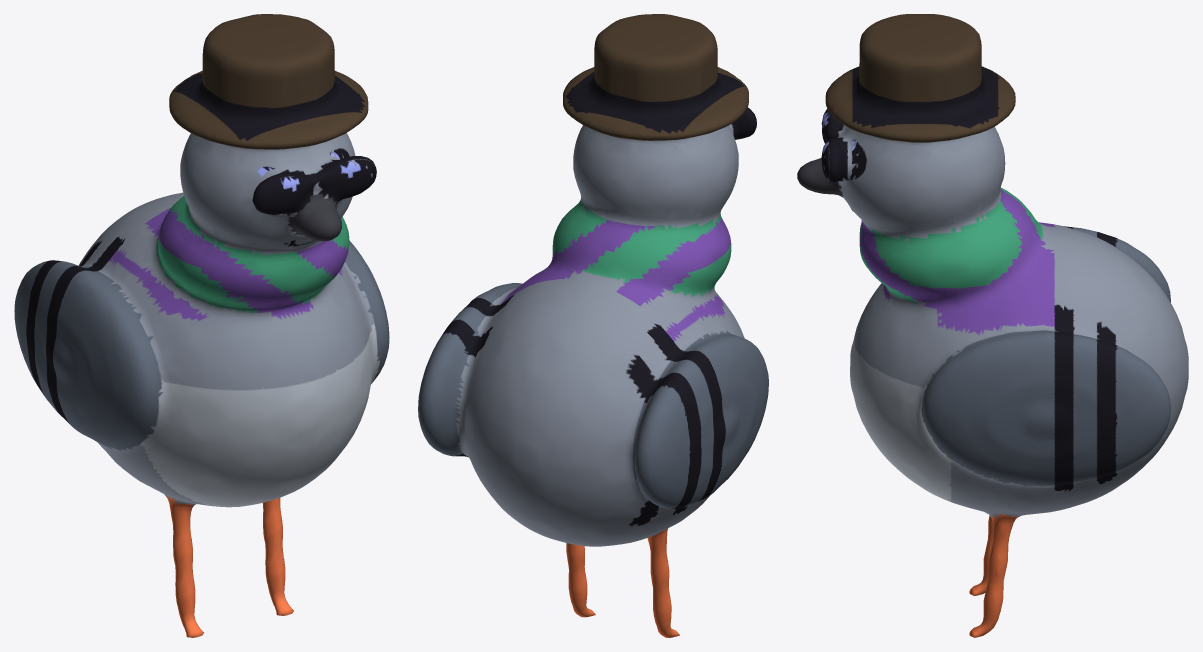
File: SM_Spioniro_Golubiro.fbx
The picture shows the model from 3 angles, left to right: view 1: azimuth 30°, elevation 25°; view 2: azimuth 150°, elevation 25°; view 3: azimuth 270°, elevation 25°; orthographic projection. The views are drawn at different scales.
Parts seen in each view (by area): view 1: Spioniro_Golubiro; view 2: Spioniro_Golubiro; view 3: Spioniro_Golubiro.
Part boxes in pixels (x1,y1,x2,y2): Spioniro_Golubiro: [14, 14, 389, 637]; Spioniro_Golubiro: [418, 14, 768, 637]; Spioniro_Golubiro: [797, 14, 1188, 637].
Size of the model in its own units: 0.6794 by 1.36 by 0.8322.
1 material, 1 textured.
